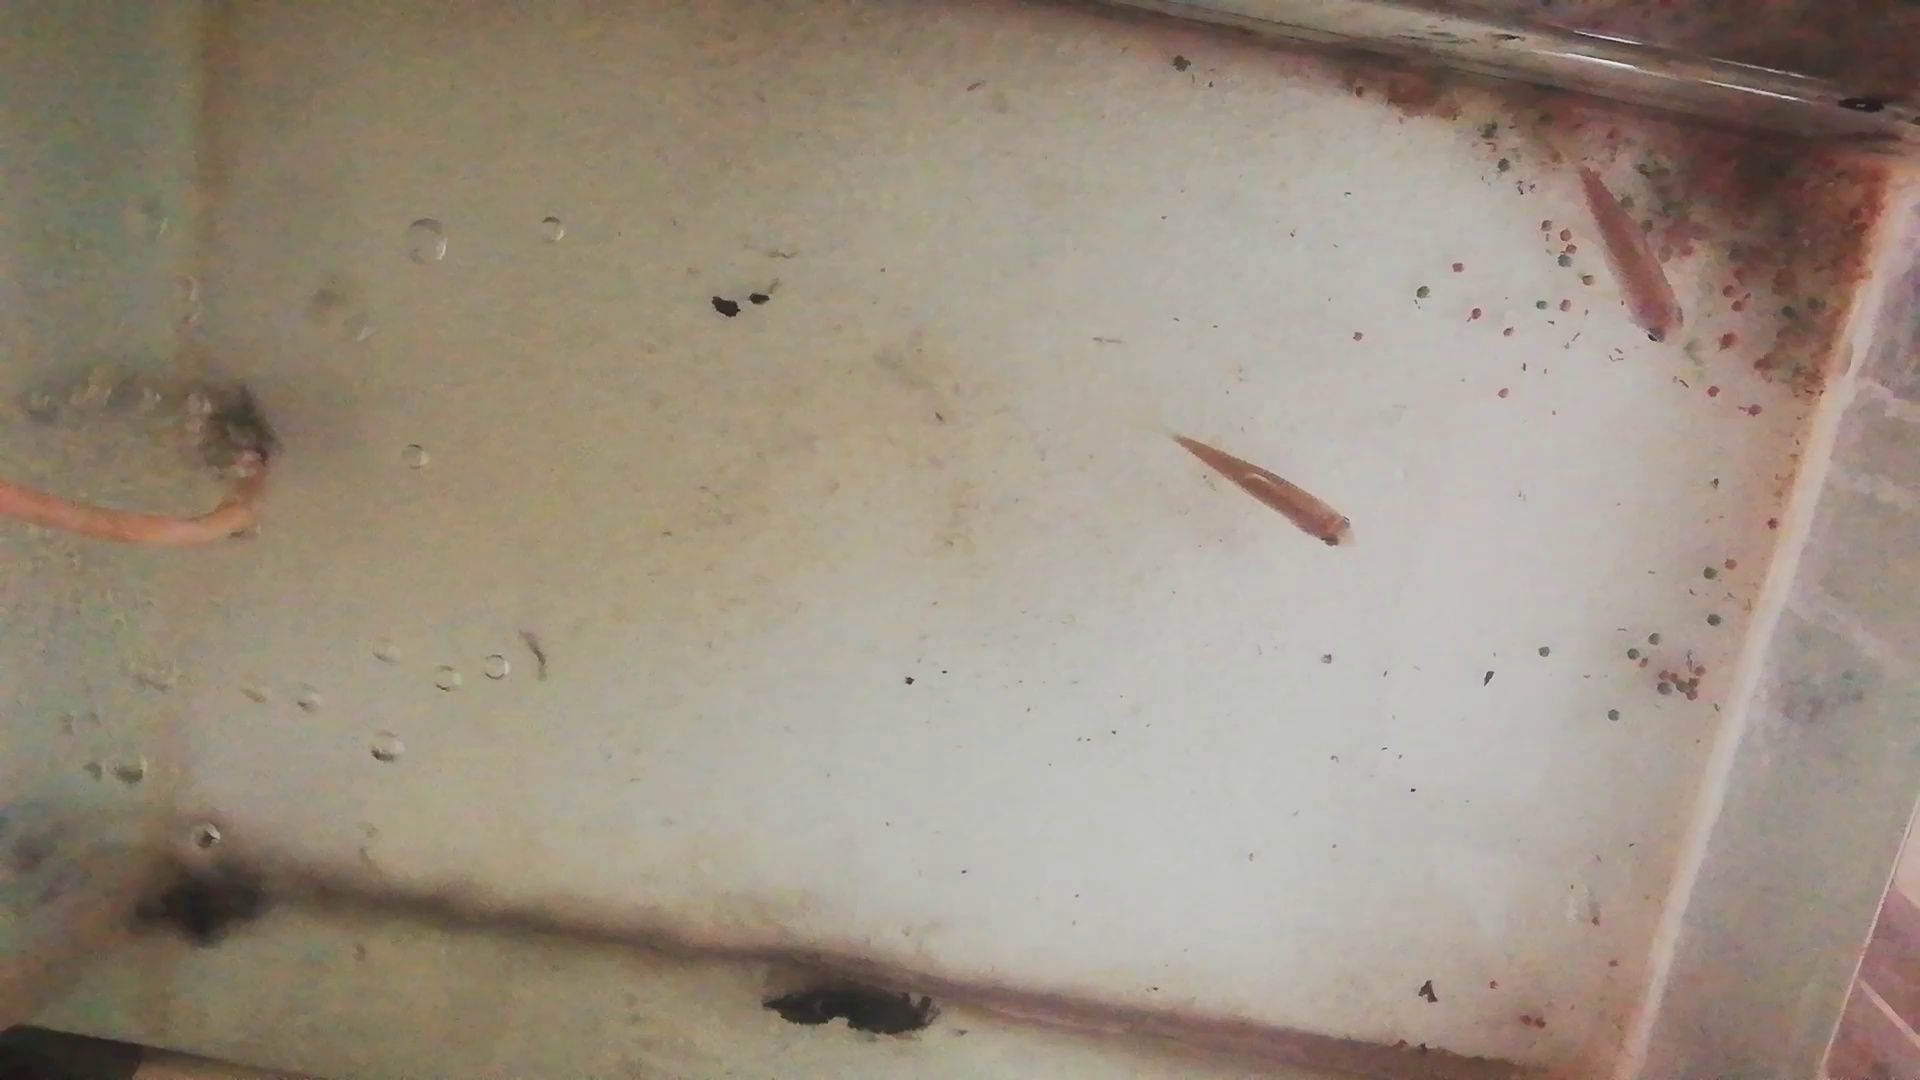fish: (1174, 433, 1360, 550), (1578, 169, 1691, 349)
